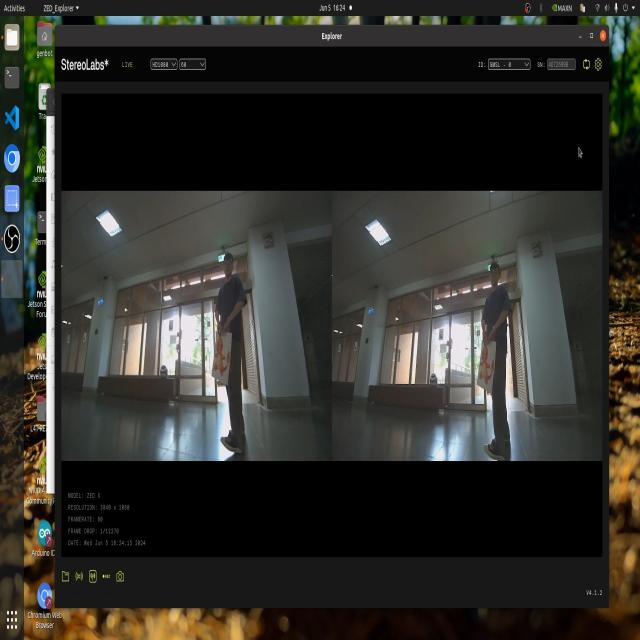red: (213, 338, 230, 378), (478, 349, 496, 385)
